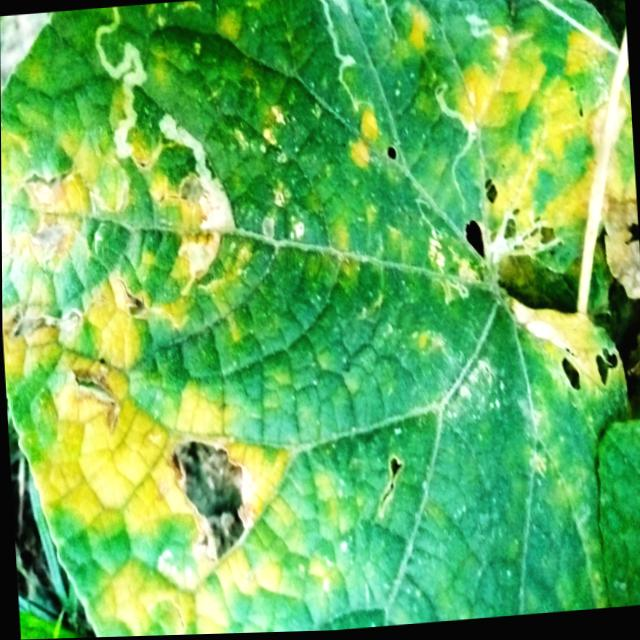Anthracnose: (170, 427, 254, 568), (455, 173, 560, 269), (555, 339, 622, 396)
